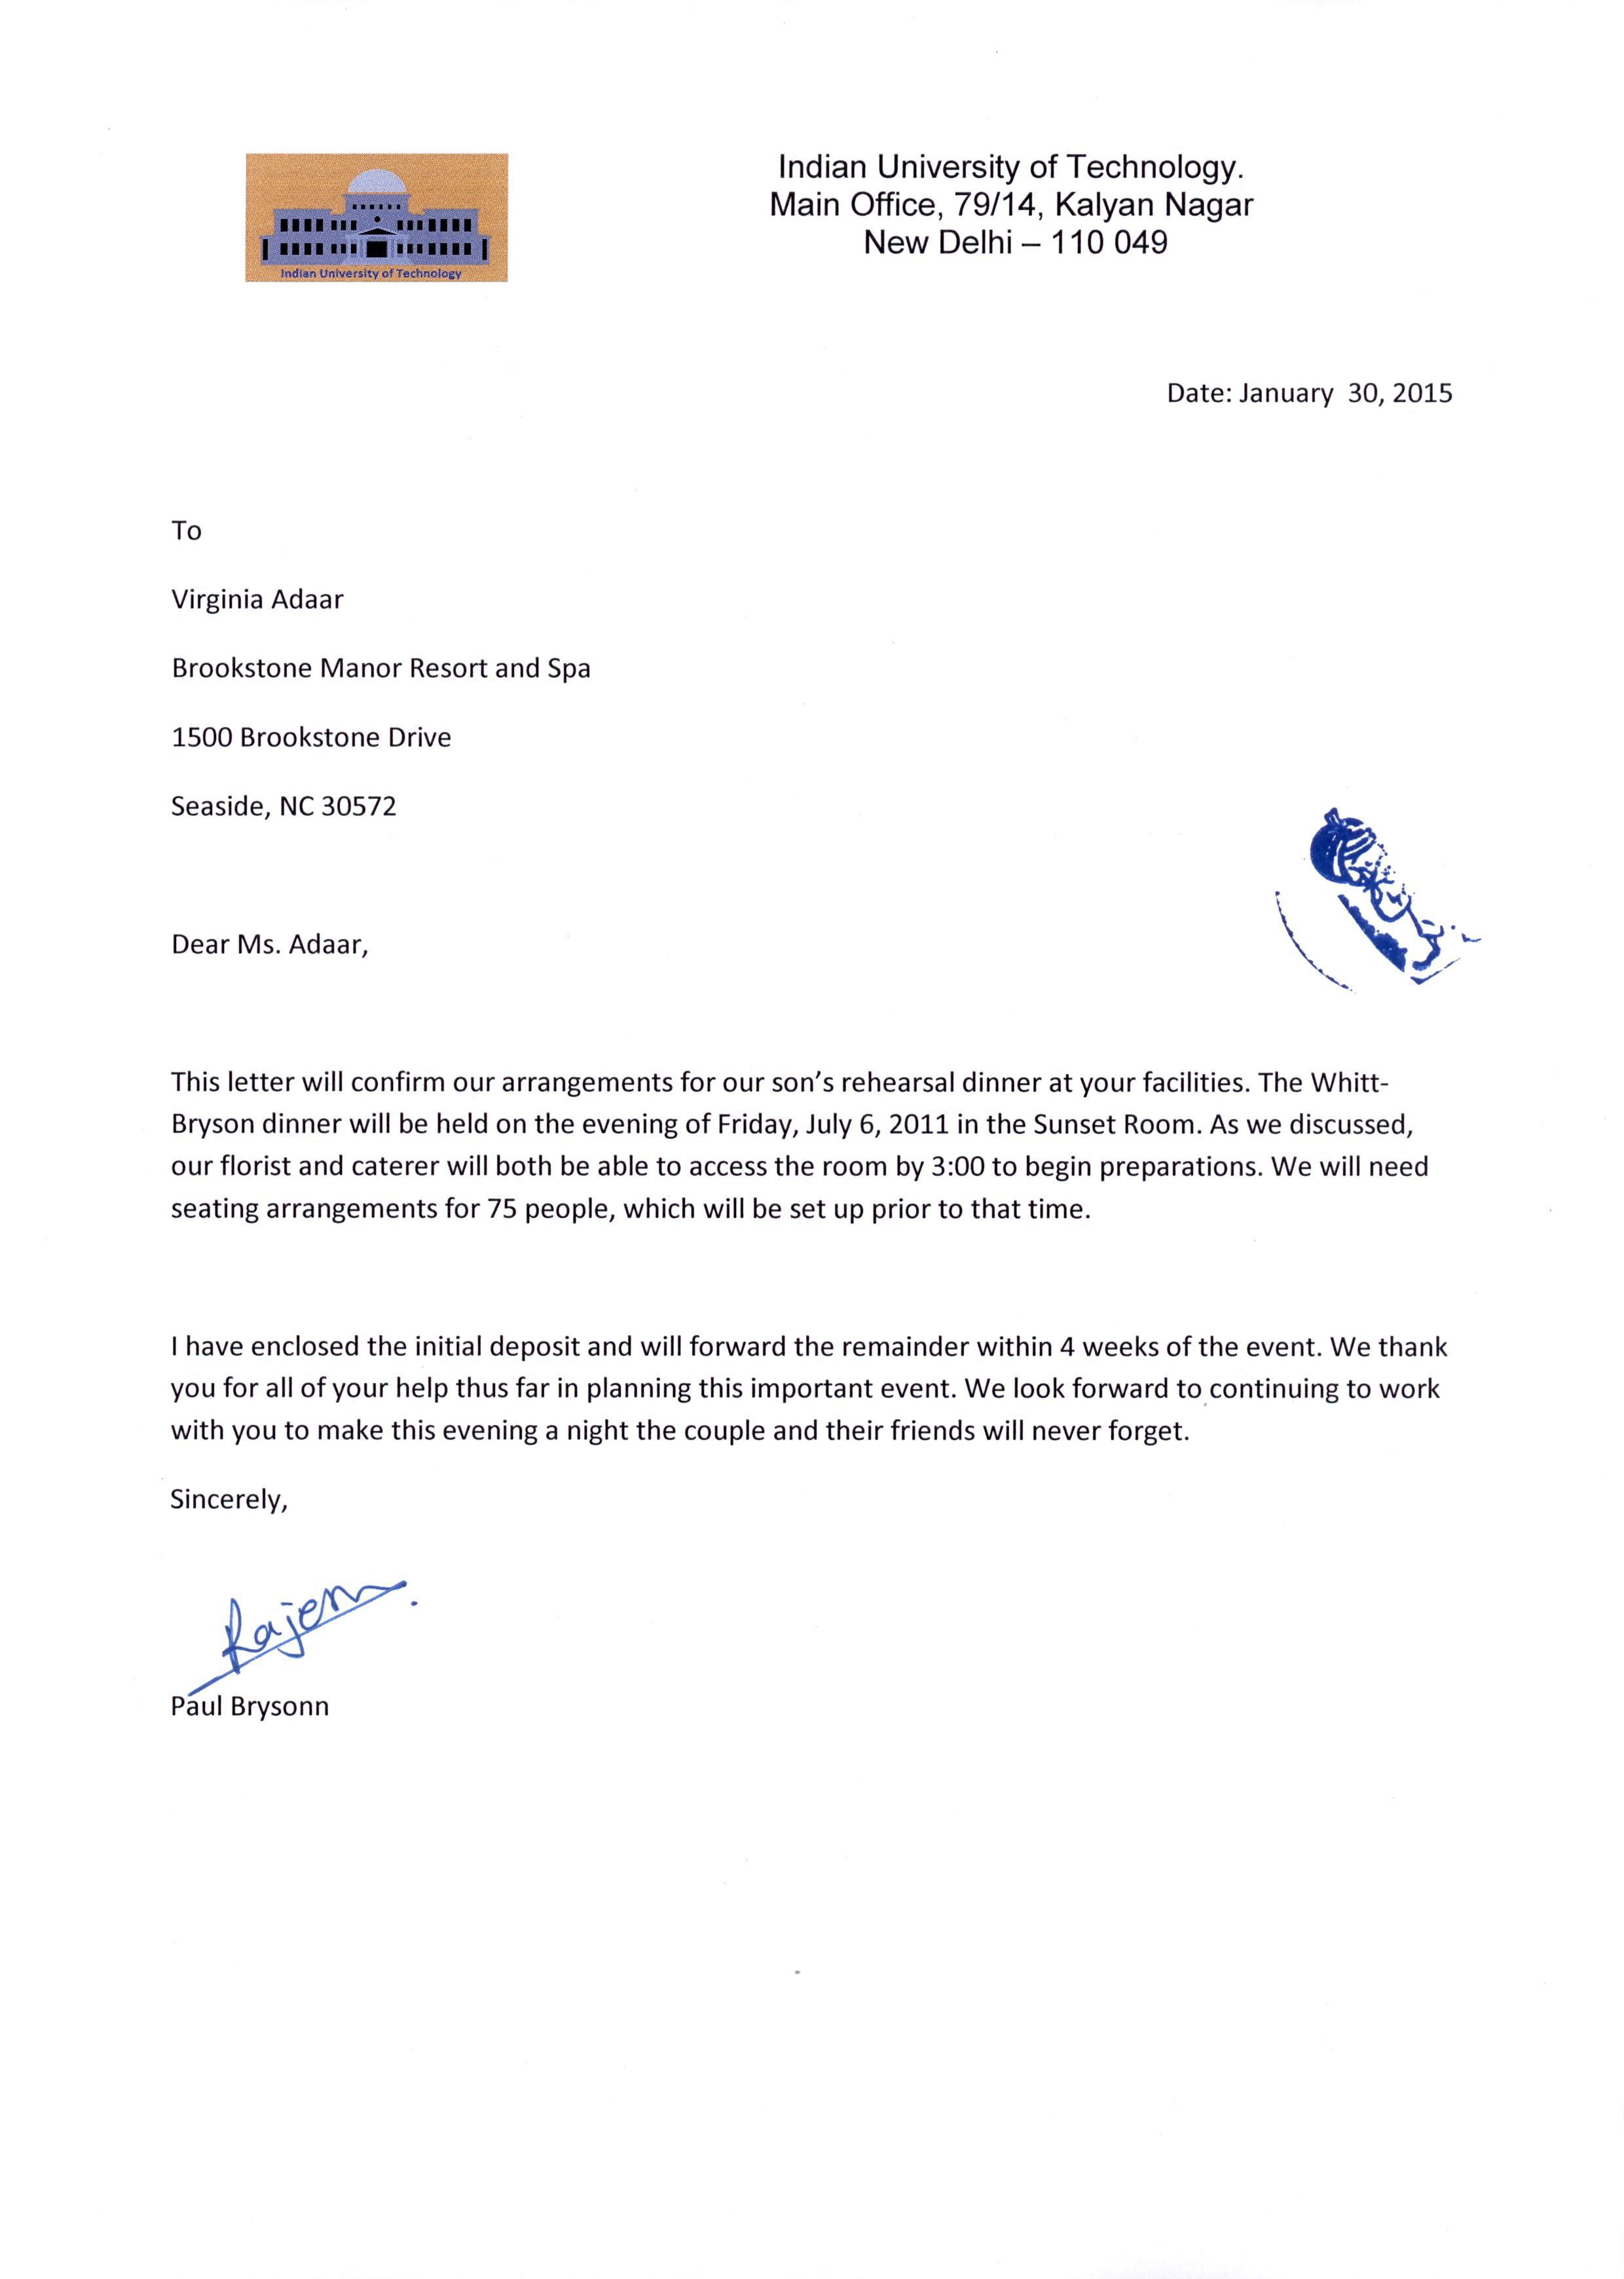Signature: (186, 1571, 415, 1692)
